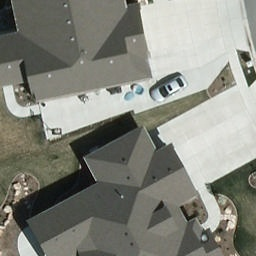car: (148, 75, 190, 105)
